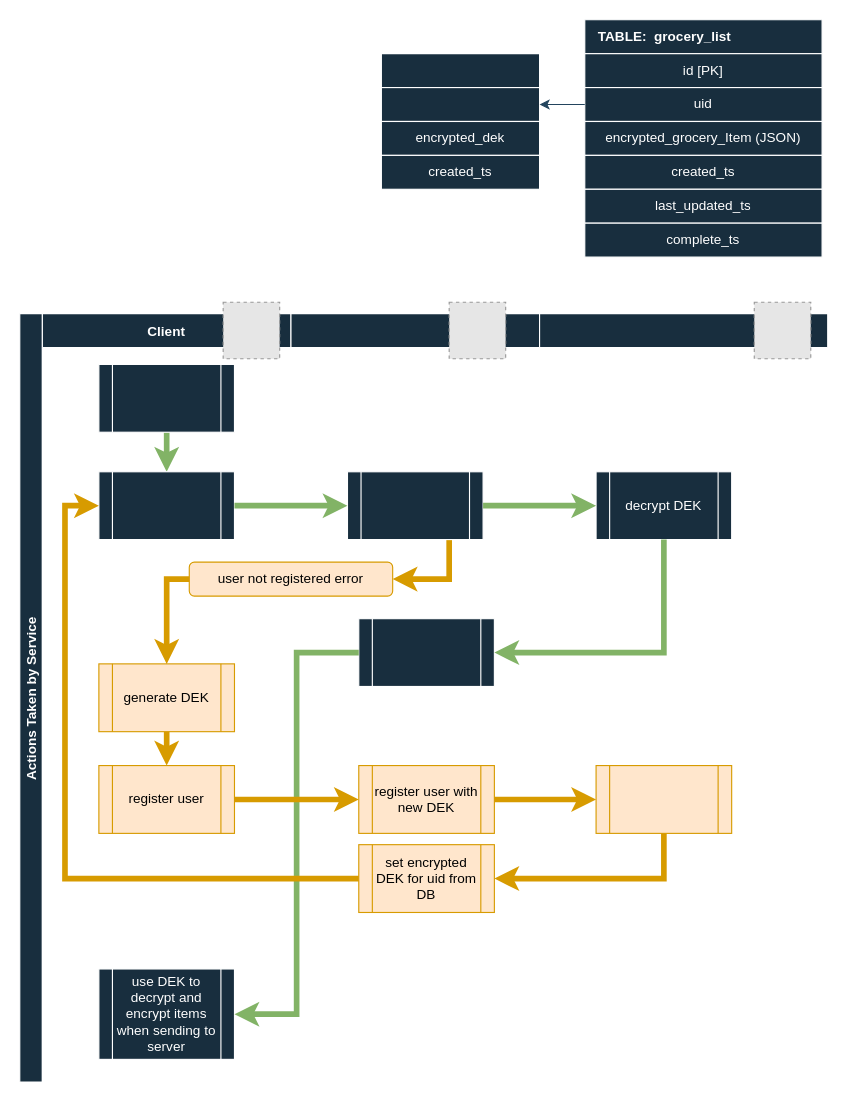
This 848x1102 diagram has some shape labels left out. Grey dashed boxes stand in for pictures. Each missing label, with the box of its shape:
API: (290, 312, 540, 1082)
encrypt DEK: (595, 764, 732, 833)
GCP Key Manager: (538, 312, 828, 1082)
get encrypted DEK for uid from DB: (346, 471, 483, 540)
requests DEK: (98, 471, 234, 540)
respond with DEK: (358, 618, 494, 686)
TABLE: user_dek: (380, 53, 540, 189)
uid [PK]: (380, 86, 540, 121)
user logged in: (98, 363, 234, 432)
